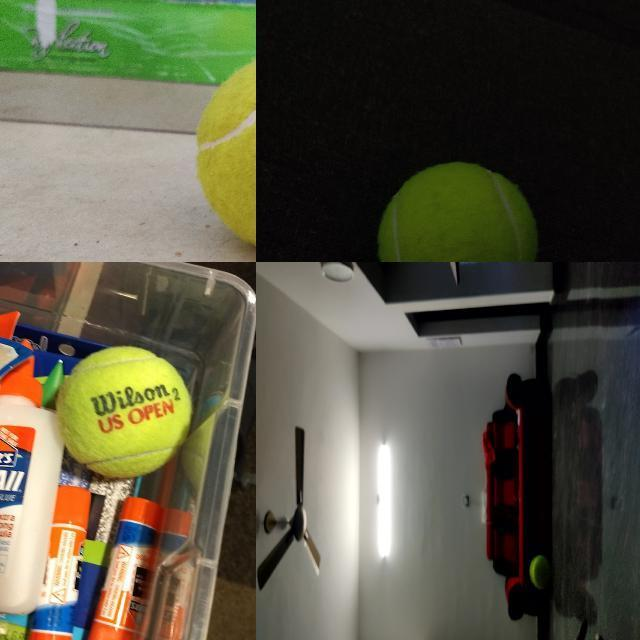tennis-ball: (55, 344, 194, 478), (377, 160, 538, 261), (195, 49, 255, 256), (530, 555, 551, 590)
